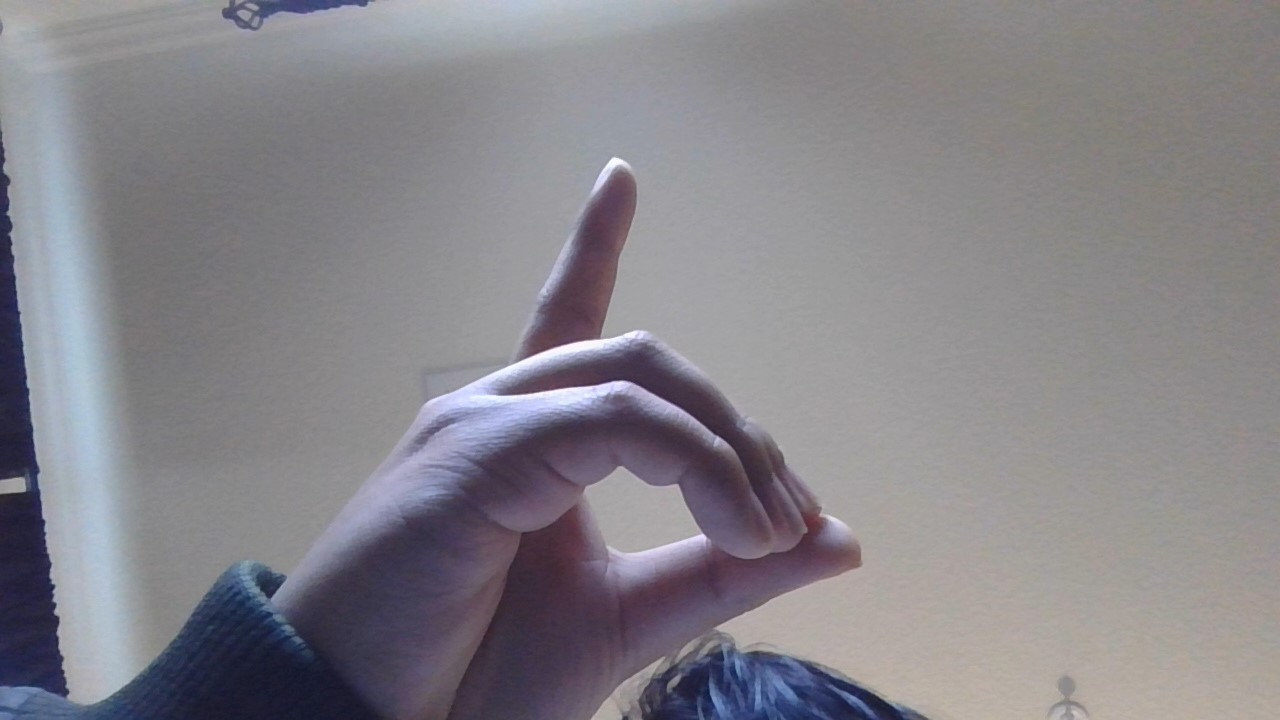d: (174, 115, 887, 720)
